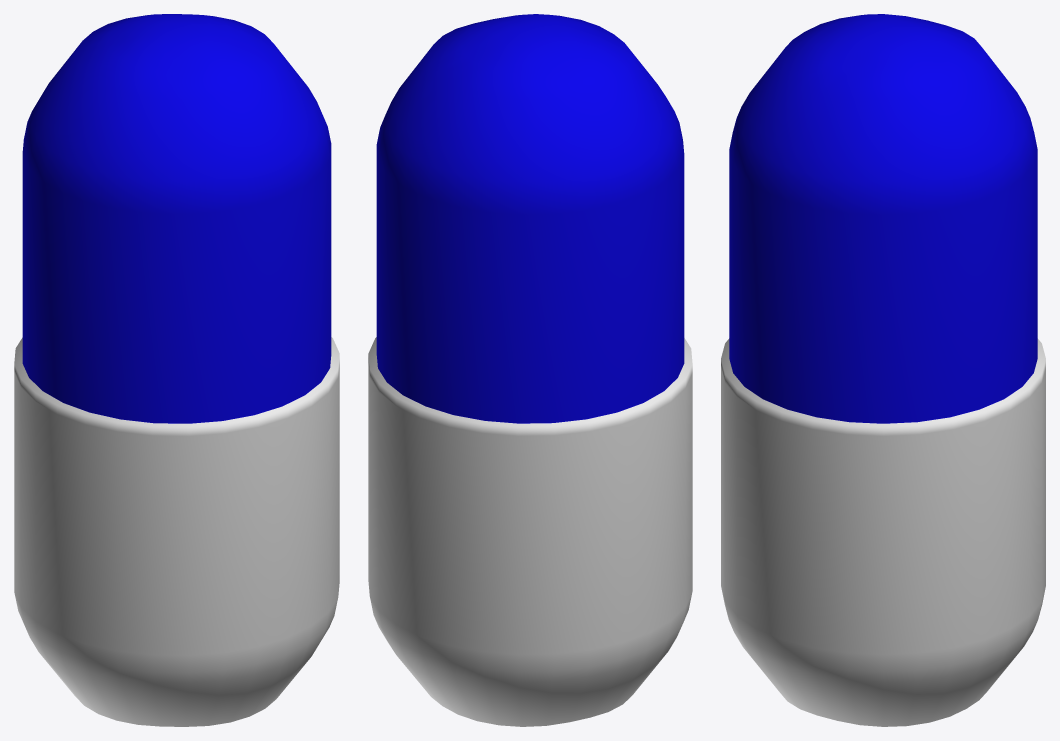
Rendered from bluepill.glb.
3 views of the same model, side by side, from view 1: azimuth 30°, elevation 25°; view 2: azimuth 150°, elevation 25°; view 3: azimuth 270°, elevation 25° (orthographic).
Parts seen in each view (by area): view 1: Cylinder; view 2: Cylinder; view 3: Cylinder.
Boxes of the visible parts, x1,y1,x2,y2 form: Cylinder: [14, 14, 339, 726]; Cylinder: [368, 14, 692, 726]; Cylinder: [721, 14, 1045, 726].
Bounding box in the file's own units: 0.15 × 0.3452 × 0.15.
